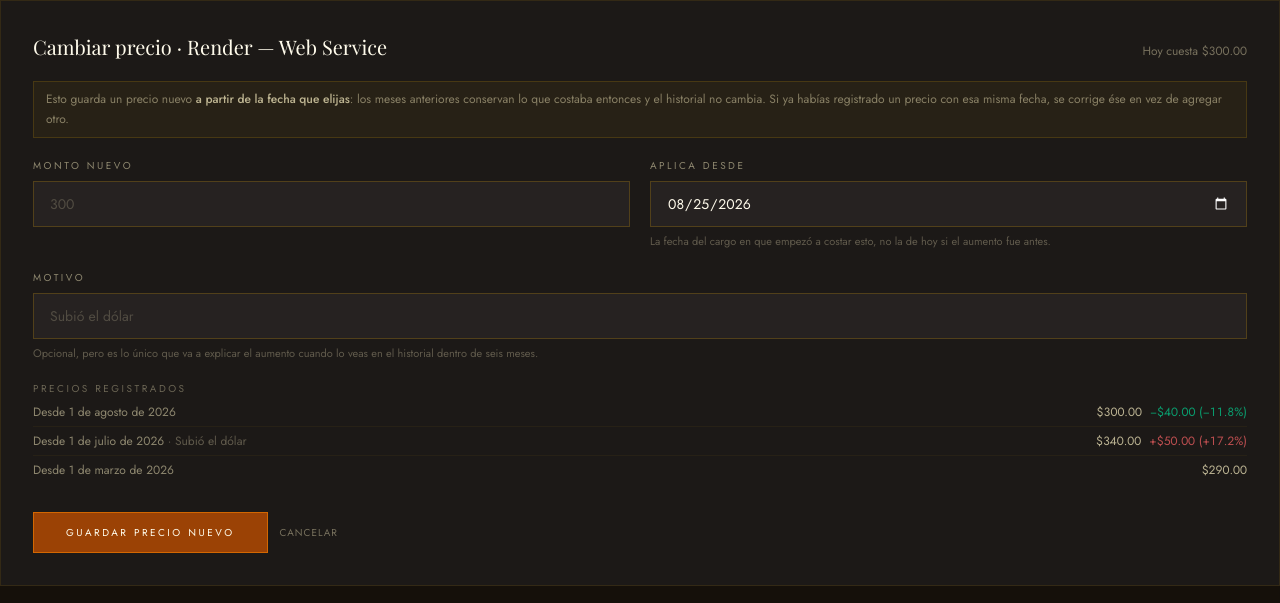
Test case: ExpenseAmountForm › validación › rechaza un monto <= 0
The image size is (1280, 603).
Type "0" into the field labelled "Monto nuevo" at coordinates (332, 204), box [33,181,630,227]
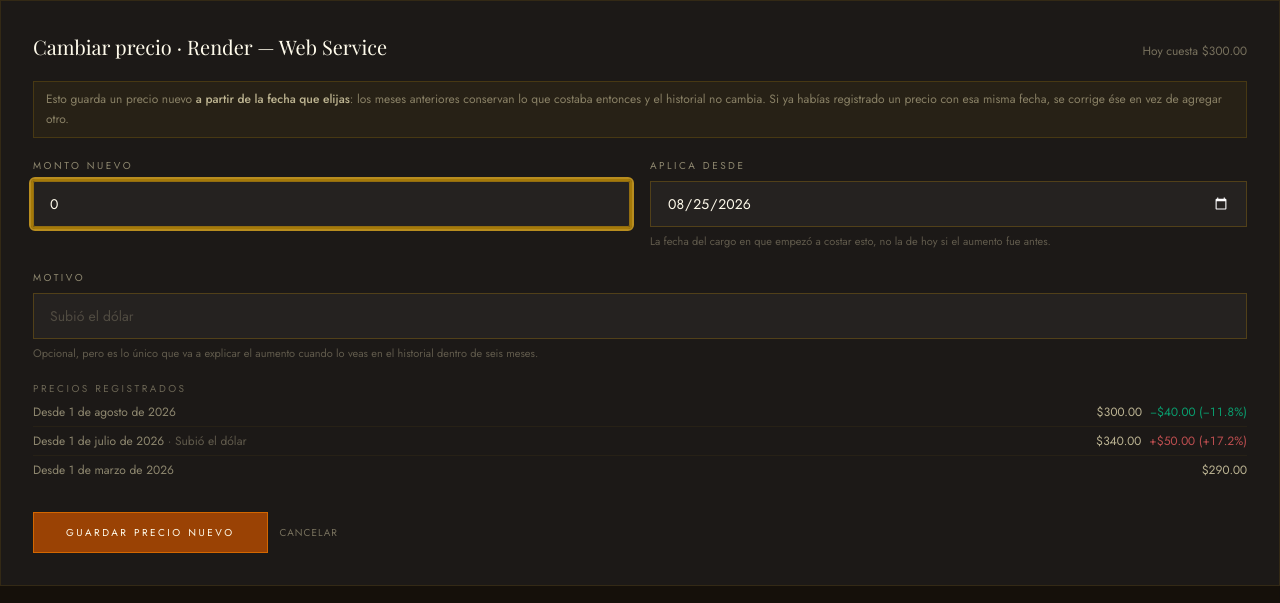
Click the button "Guardar precio nuevo" at coordinates (150, 532), box [33,512,268,553]
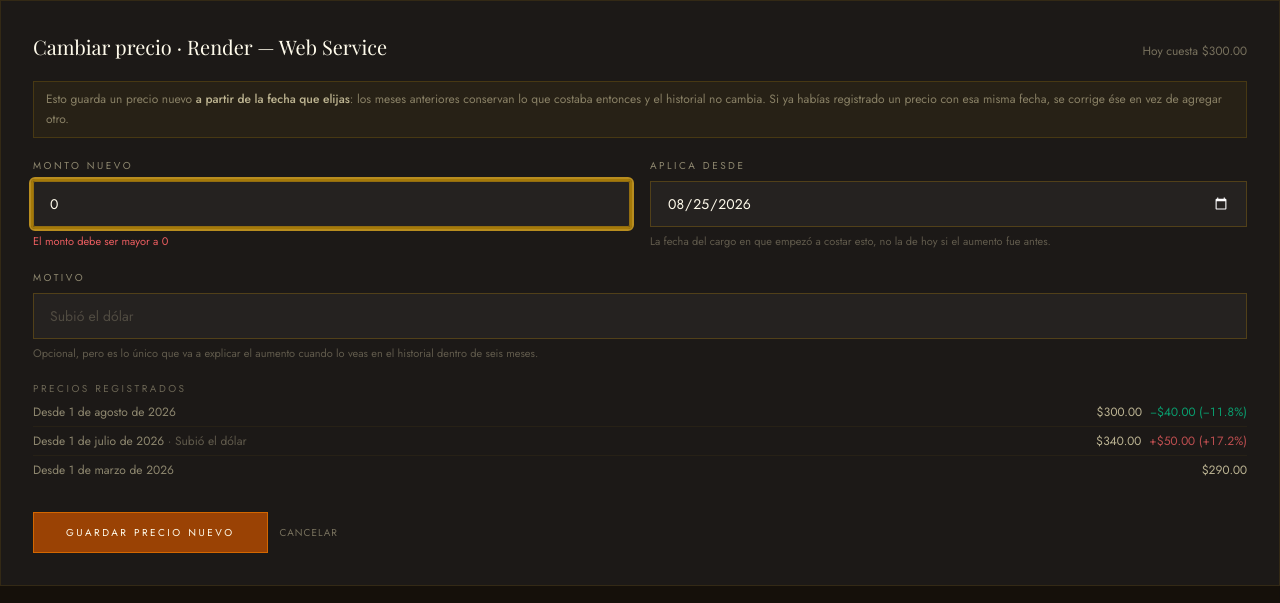
Now the text "El monto debe ser mayor a 0" is shown, box [33,233,168,249]
